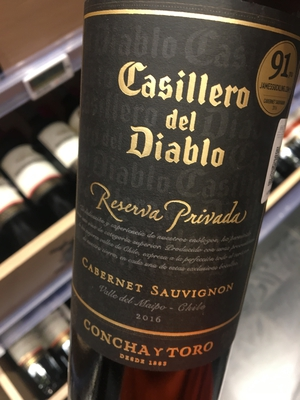casillero del diablo reserva privada cabernet sauvignon: (71, 5, 300, 394)
